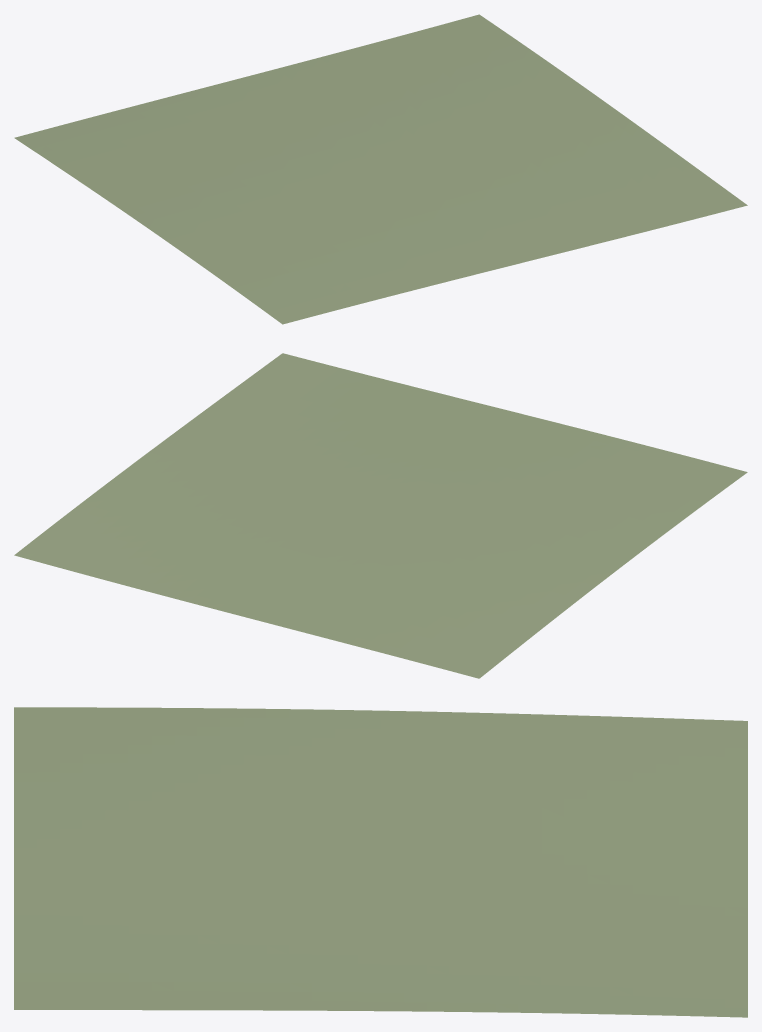
Rendered from expanse-24-1.glb.
3 renders of one model, top to bottom at view 1: azimuth 30°, elevation 25°; view 2: azimuth 150°, elevation 25°; view 3: azimuth 270°, elevation 25°, orthographic. The views are drawn at different scales.
Visible parts, largest first — view 1: expanse-24-1; view 2: expanse-24-1; view 3: expanse-24-1.
Boxes of the visible parts, bbox=[...] form: expanse-24-1: bbox=[14, 14, 747, 324]; expanse-24-1: bbox=[14, 353, 747, 678]; expanse-24-1: bbox=[14, 707, 747, 1017].
Size of the model in its own units: 256 by 8.16 by 256.
